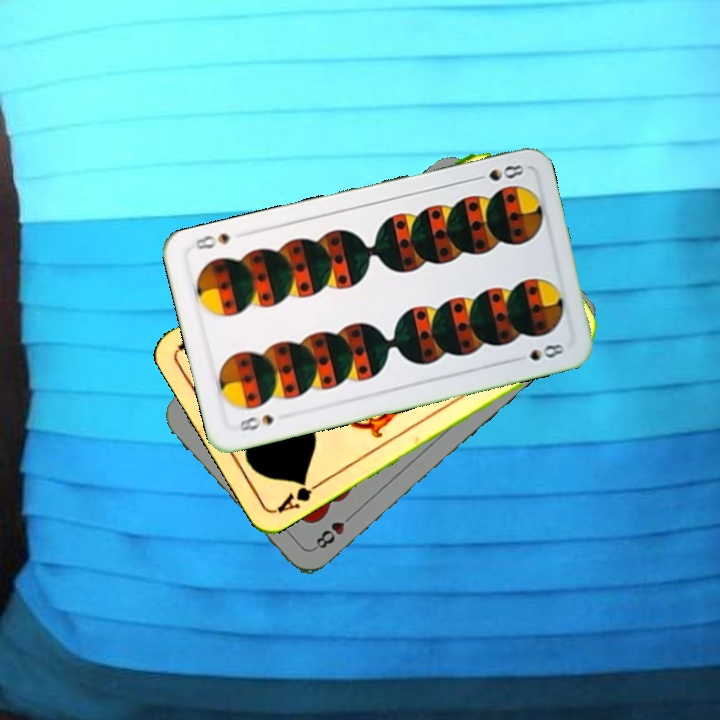GA: (273, 475, 326, 517)
H8: (309, 508, 358, 553)
S8: (468, 160, 527, 184), (231, 410, 276, 435)
